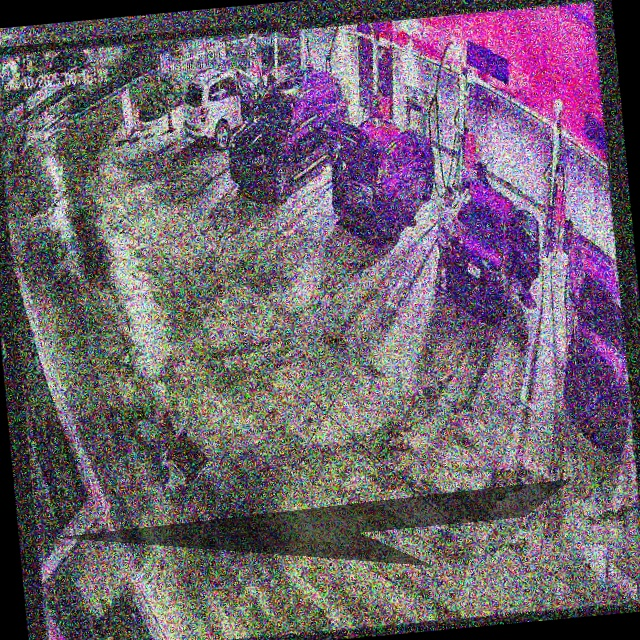Car: (221, 68, 354, 203), (439, 174, 546, 325), (323, 111, 442, 246), (176, 66, 282, 152)
